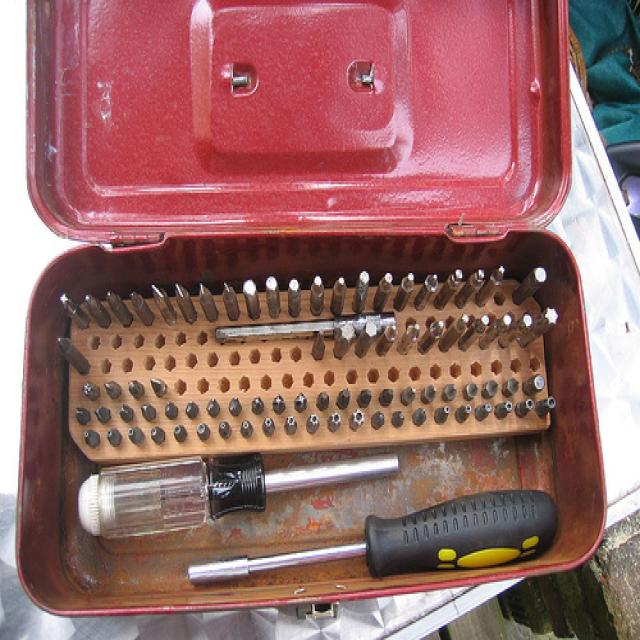screw_driver: (184, 492, 561, 587), (76, 452, 402, 539)
